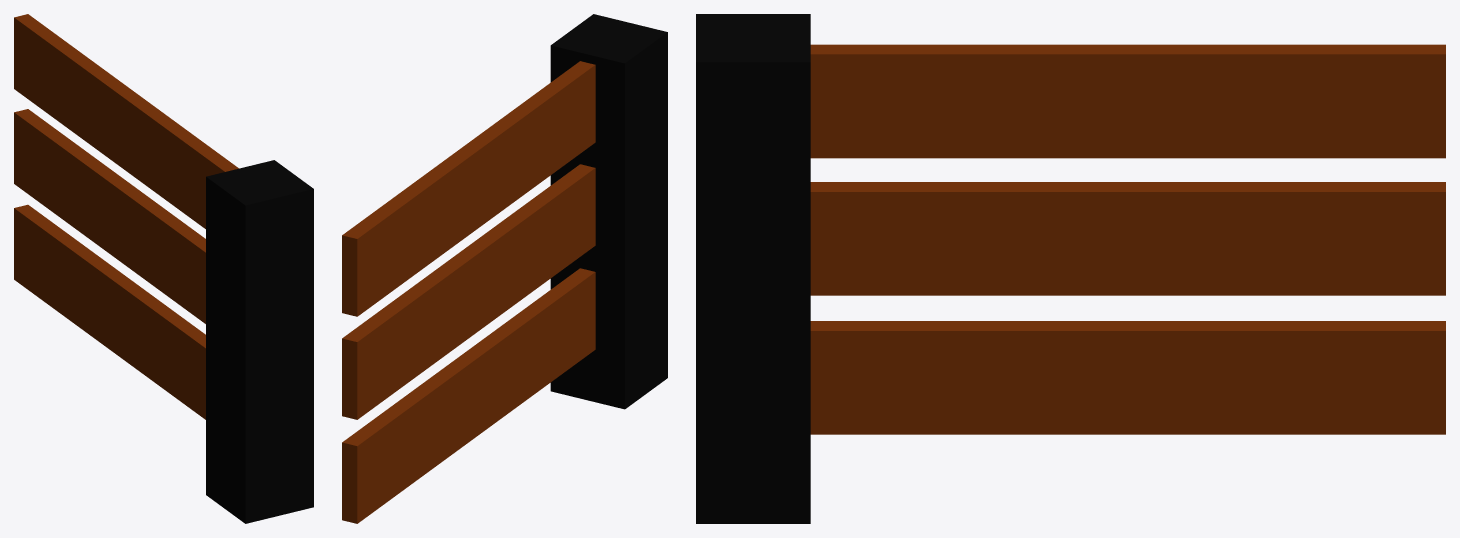
Rendered from Fence.Modern.End.fbx.
3 views of the same model, side by side, from view 1: azimuth 30°, elevation 25°; view 2: azimuth 150°, elevation 25°; view 3: azimuth 270°, elevation 25° (orthographic). The views are drawn at different scales.
Visible parts, largest first — view 1: Cube, Cube.001; view 2: Cube, Cube.001; view 3: Cube, Cube.001.
Boxes of the visible parts, bbox=[...] form: Cube: bbox=[14, 14, 238, 419]; Cube.001: bbox=[206, 160, 313, 523]; Cube: bbox=[342, 61, 595, 523]; Cube.001: bbox=[550, 14, 667, 409]; Cube: bbox=[810, 44, 1445, 434]; Cube.001: bbox=[696, 14, 810, 523].
Size of the model in its own units: 200 by 890 by 1310.
